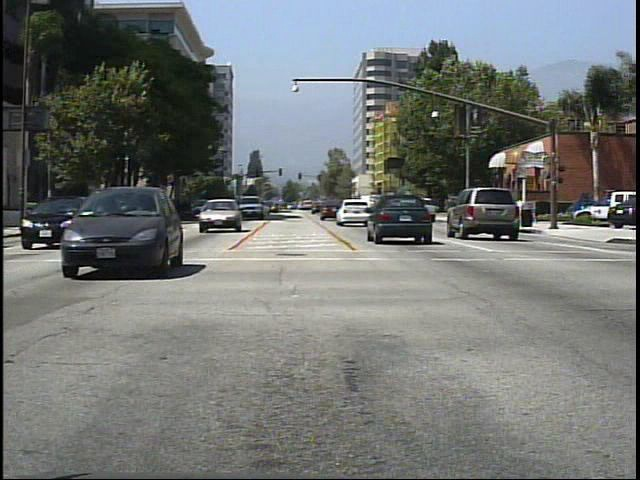person: (511, 195, 530, 231), (480, 190, 498, 225)
